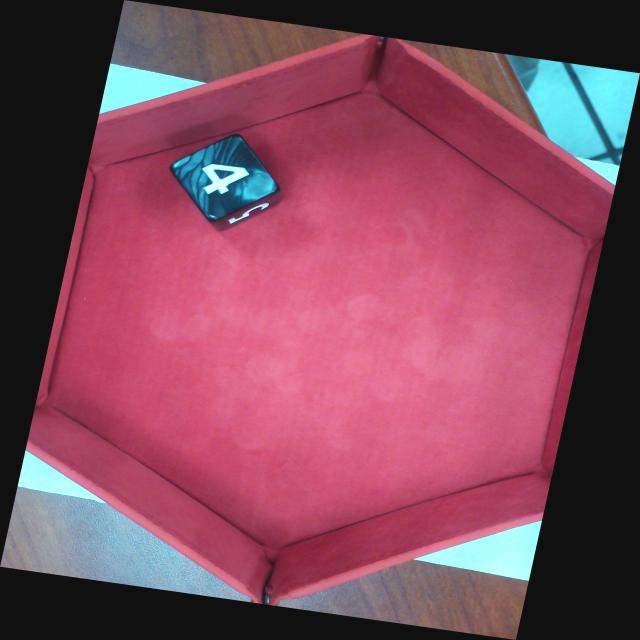dice: (174, 139, 284, 215)
